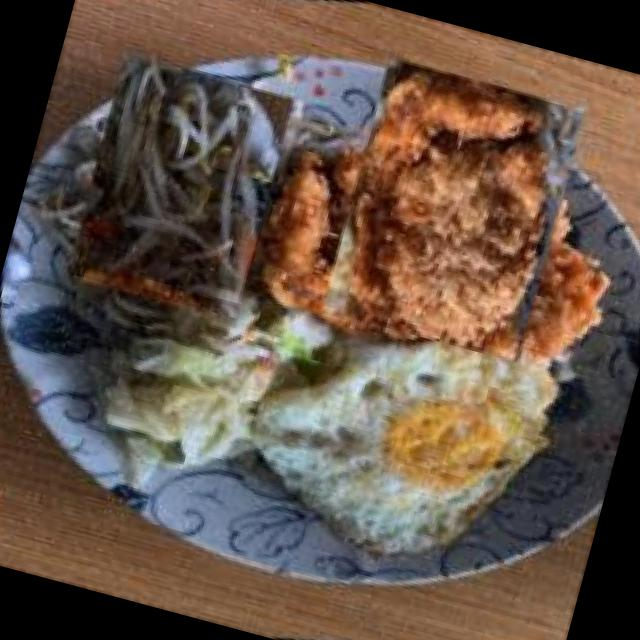chinese_cabbage: (26, 202, 372, 562)
fried_chicken: (209, 19, 640, 482)
fried_eggs: (176, 239, 622, 640)
mung_bean_sprouts: (11, 19, 350, 358)
